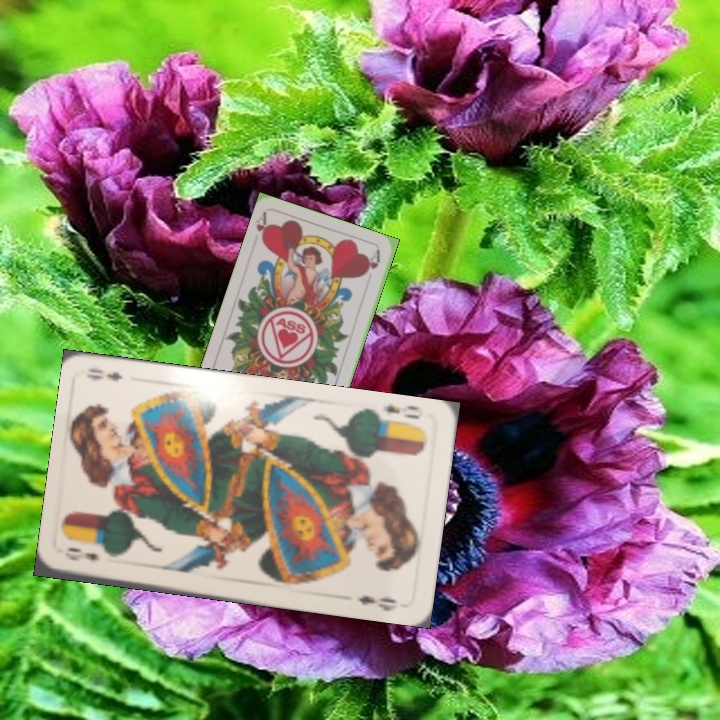EO: (372, 401, 422, 428), (61, 544, 102, 564)
HA: (252, 209, 272, 246)
